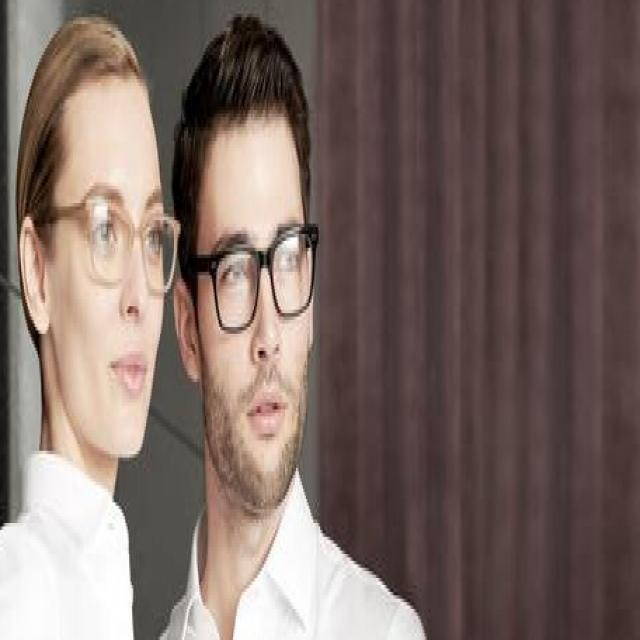Glasses: (195, 213, 324, 344), (40, 192, 186, 292)
